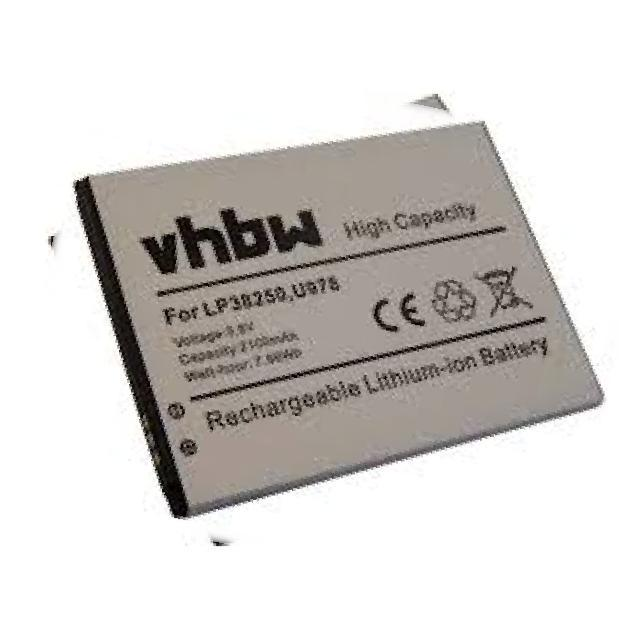Battery: (52, 104, 617, 539)
